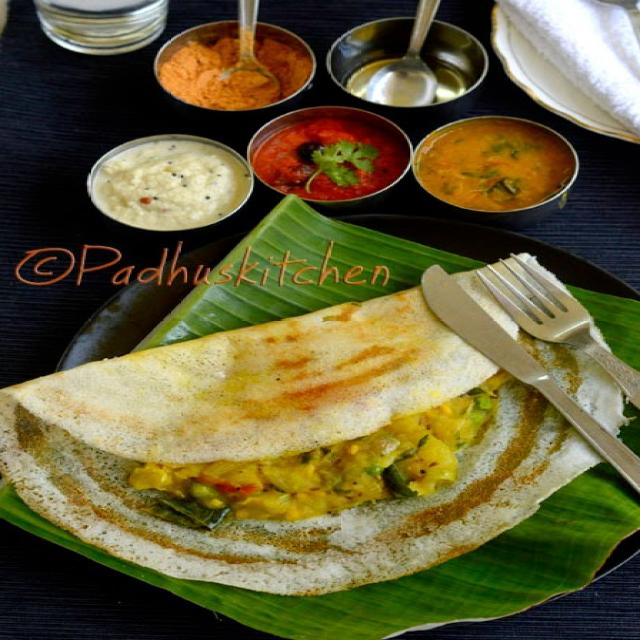chutney: (257, 112, 406, 222), (84, 138, 253, 228)
masala_dosa: (33, 316, 541, 571)
sambhar: (413, 120, 587, 224)
